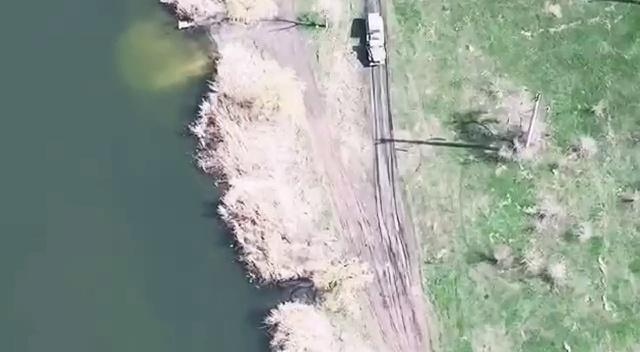vehicle: (364, 12, 386, 66)
